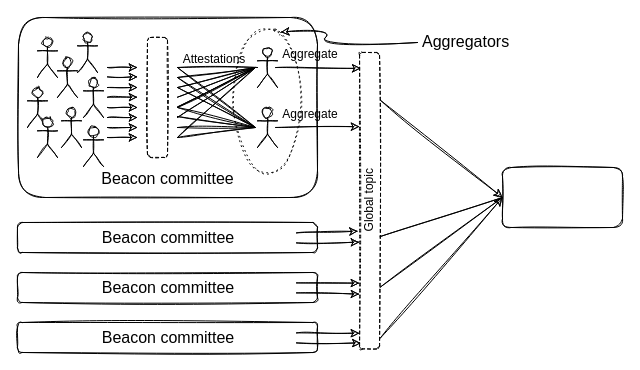
The diagram is 640 pixels wide and 370 high, and some of its shapes have lost their labels. The shapes that lost their labels are listed below. From the top down, each one's centre as x and y in pixels, then its label:
(157,97): Subnet
(562,197): Next block proposer
